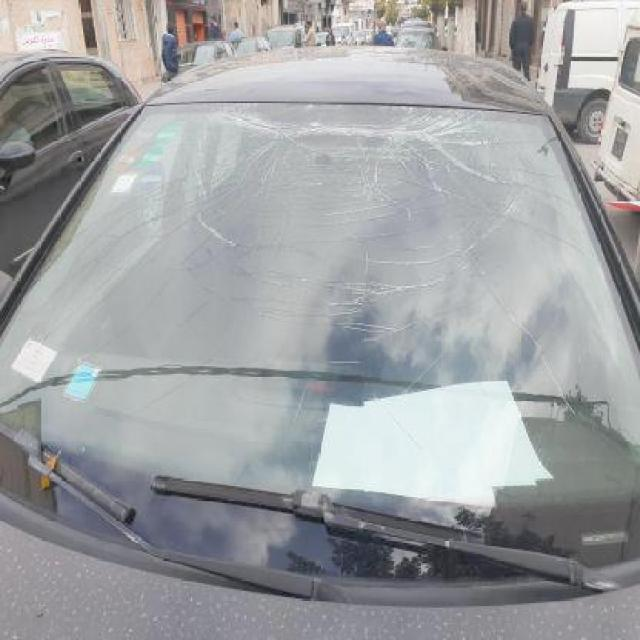car damage: (209, 104, 501, 177), (201, 145, 406, 214), (307, 262, 461, 299), (470, 159, 565, 198)
